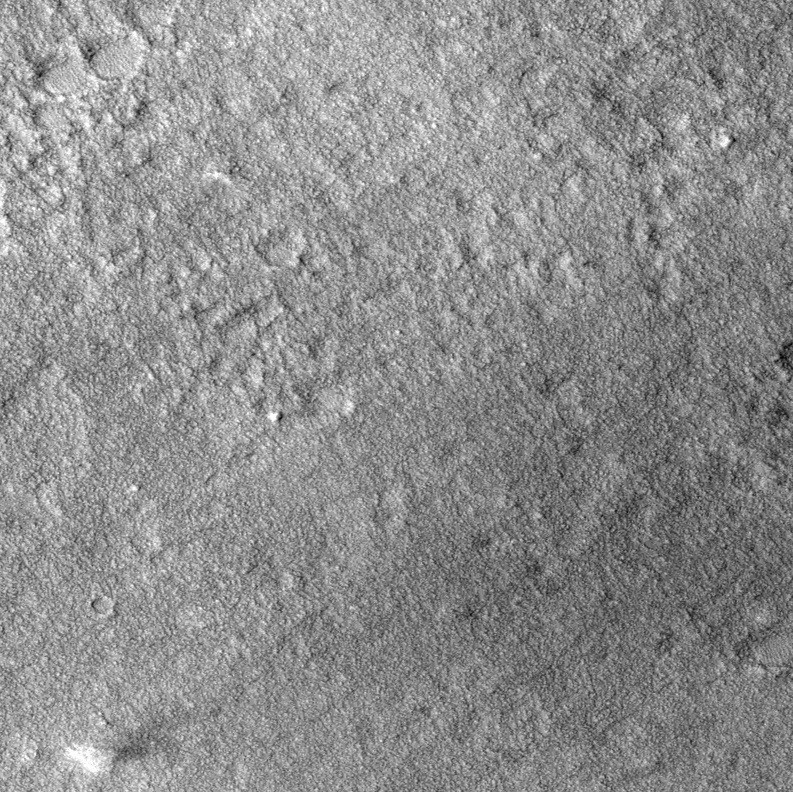dust_devil: (61, 717, 185, 777)
